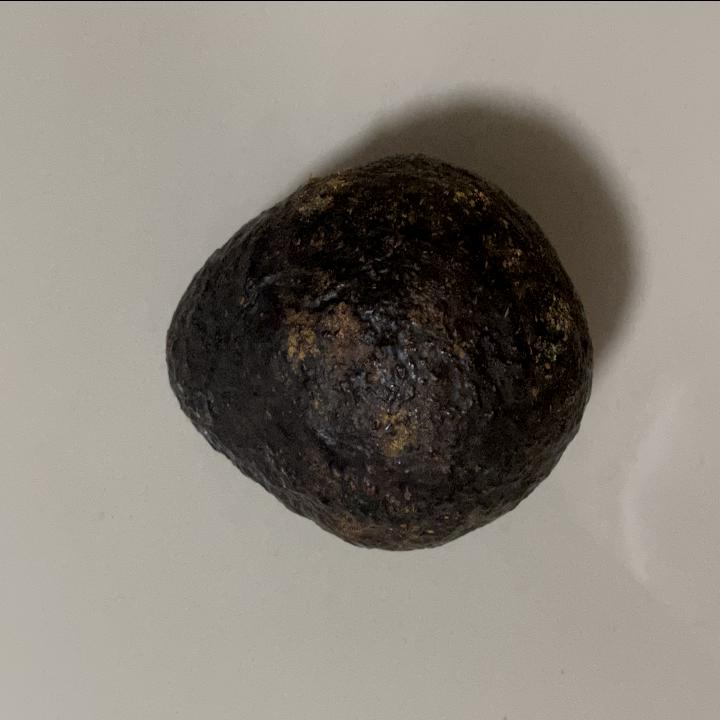Level3: (154, 140, 600, 564)
